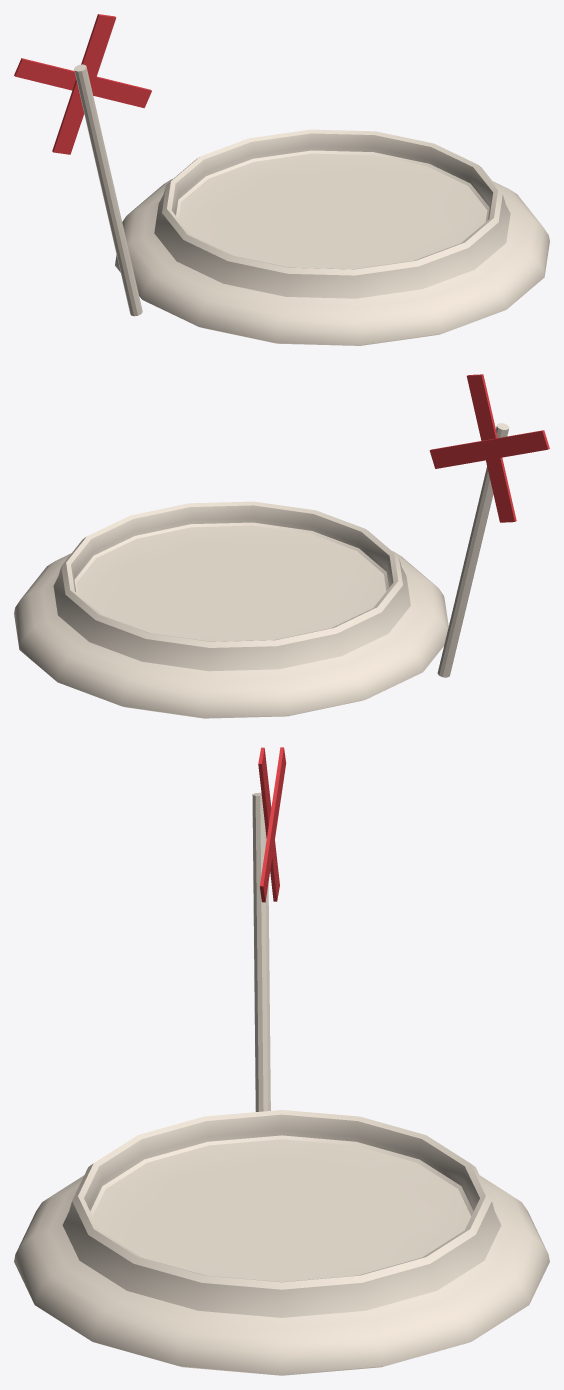
The model's file is trap_Platform003.fbx.
3 renders of one model, top to bottom at view 1: azimuth 30°, elevation 25°; view 2: azimuth 150°, elevation 25°; view 3: azimuth 270°, elevation 25°, orthographic. The views are drawn at different scales.
Parts seen in each view (by area): view 1: Danger.002; view 2: Danger.002; view 3: Danger.002.
Part boxes in pixels (bbox=[...]): Danger.002: bbox=[14, 14, 549, 345]; Danger.002: bbox=[14, 374, 549, 718]; Danger.002: bbox=[14, 747, 549, 1375].
Bounding box in the file's own units: 303 × 176 × 227.
